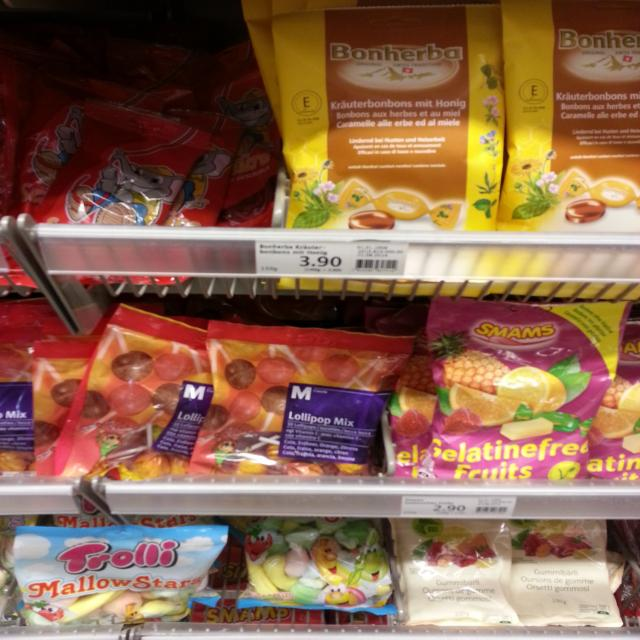Bombons: (274, 0, 504, 293), (499, 1, 640, 297), (428, 295, 624, 480), (188, 322, 416, 481), (35, 305, 212, 481), (32, 104, 215, 266), (12, 524, 229, 624), (236, 518, 398, 614), (398, 516, 522, 624), (510, 522, 622, 626)
